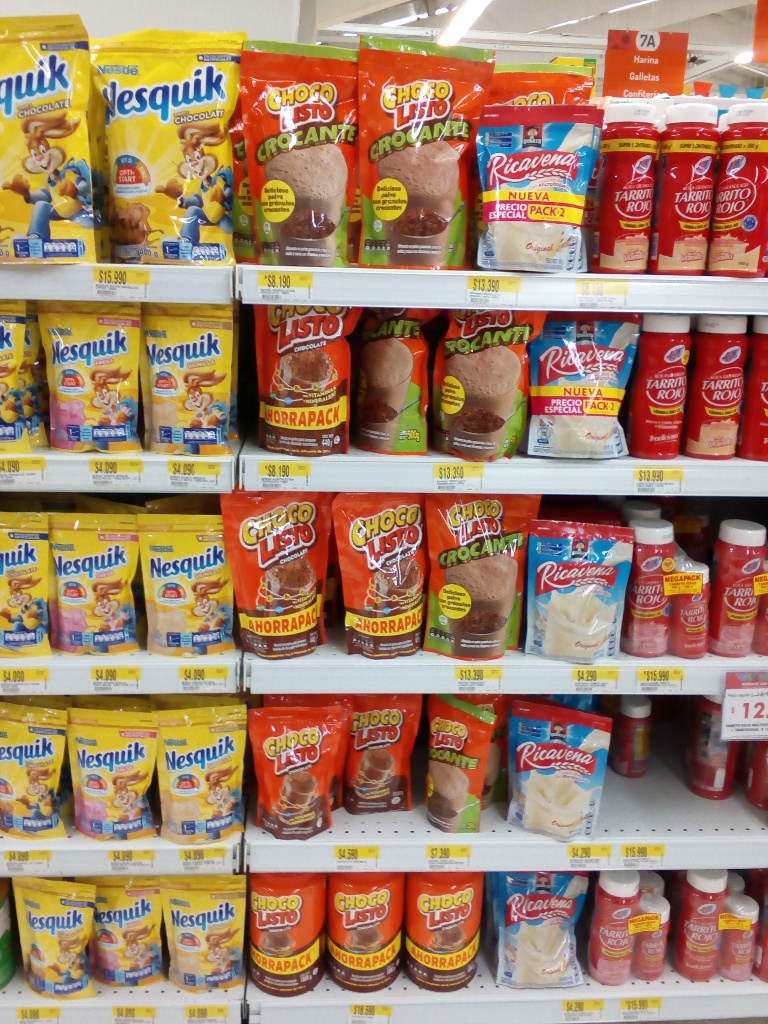COL0170102DYP25000: (423, 695, 491, 831)
COL0170102DYP50000: (431, 307, 534, 460)
COL0170103DYP44000: (330, 493, 431, 657)
COL0170103TRR00100: (408, 870, 486, 990)
COL0170303DYP20000: (7, 875, 97, 997)
COL0170305DYP20000: (31, 296, 140, 456)
COL0170306DYP20000: (138, 515, 237, 655)
